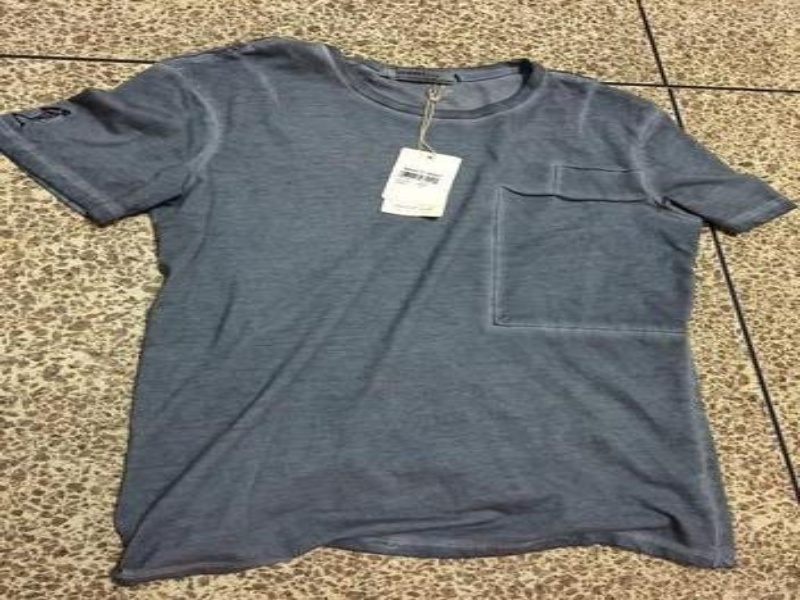short_sleeved_shirt: (0, 37, 798, 590)
